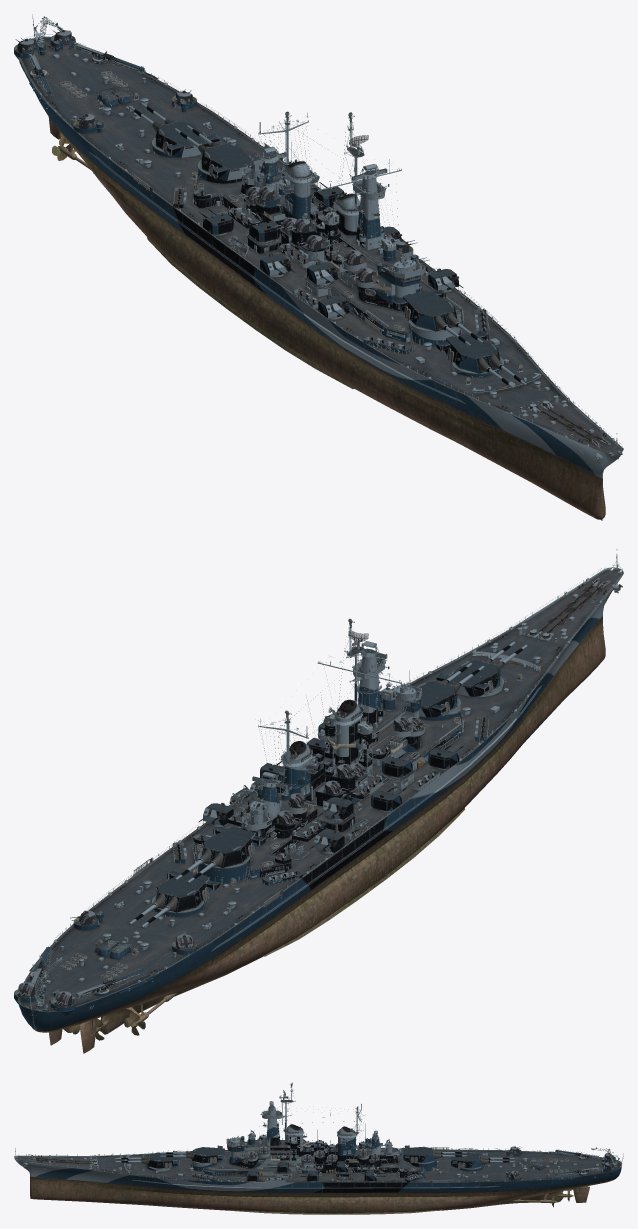
Rendered from us_battleship_louisiana-maximum-compressed.glb.
The picture shows the model from 3 angles, top to bottom: view 1: azimuth 30°, elevation 25°; view 2: azimuth 150°, elevation 25°; view 3: azimuth 270°, elevation 25°; orthographic projection. The views are drawn at different scales.
Visible parts, largest first — view 1: ASB040_Louisiana_1955_bow, ASB040_Louisiana_1955_bow_Montana_agm034_16in50_mk7_skinned_, ASB040_Louisiana_1955_bow_Ohio_ac004_catapult_4_skinned_561_, ASB040_Louisiana_1955_bow_Ohio_aga003_20mm_oerlikon_mk4_588_; view 2: ASB040_Louisiana_1955_bow, ASB040_Louisiana_1955_bow_Montana_agm034_16in50_mk7_skinned_, ASB040_Louisiana_1955_bow_Ohio_ac004_catapult_4_skinned_561_, ASB040_Louisiana_1955_bow_Ohio_aga003_20mm_oerlikon_mk4_588_; view 3: ASB040_Louisiana_1955_bow, ASB040_Louisiana_1955_bow_Montana_agm034_16in50_mk7_skinned_, ASB040_Louisiana_1955_bow_Ohio_ac004_catapult_4_skinned_561_.
Boxes of the visible parts, left/top/right/bottom form: ASB040_Louisiana_1955_bow: left=14, top=14, right=623, bottom=520; ASB040_Louisiana_1955_bow_Montana_agm034_16in50_mk7_skinned_: left=128, top=102, right=527, bottom=389; ASB040_Louisiana_1955_bow_Ohio_ac004_catapult_4_skinned_561_: left=28, top=43, right=145, bottom=95; ASB040_Louisiana_1955_bow_Ohio_aga003_20mm_oerlikon_mk4_588_: left=176, top=167, right=486, bottom=350; ASB040_Louisiana_1955_bow: left=14, top=549, right=623, bottom=1053; ASB040_Louisiana_1955_bow_Montana_agm034_16in50_mk7_skinned_: left=128, top=641, right=527, bottom=928; ASB040_Louisiana_1955_bow_Ohio_ac004_catapult_4_skinned_561_: left=29, top=947, right=145, bottom=999; ASB040_Louisiana_1955_bow_Ohio_aga003_20mm_oerlikon_mk4_588_: left=176, top=715, right=486, bottom=880; ASB040_Louisiana_1955_bow: left=14, top=1087, right=623, bottom=1214; ASB040_Louisiana_1955_bow_Montana_agm034_16in50_mk7_skinned_: left=115, top=1149, right=514, bottom=1164; ASB040_Louisiana_1955_bow_Ohio_ac004_catapult_4_skinned_561_: left=555, top=1149, right=600, bottom=1176.
Size of the model in its own units: 24.7 by 39.59 by 188.
92 materials, 92 textured.
